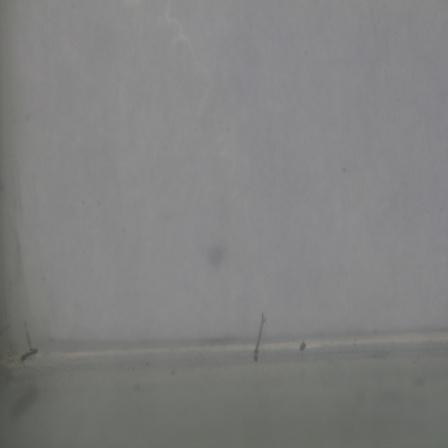Jentik-Nyamuk: (251, 309, 269, 369)
